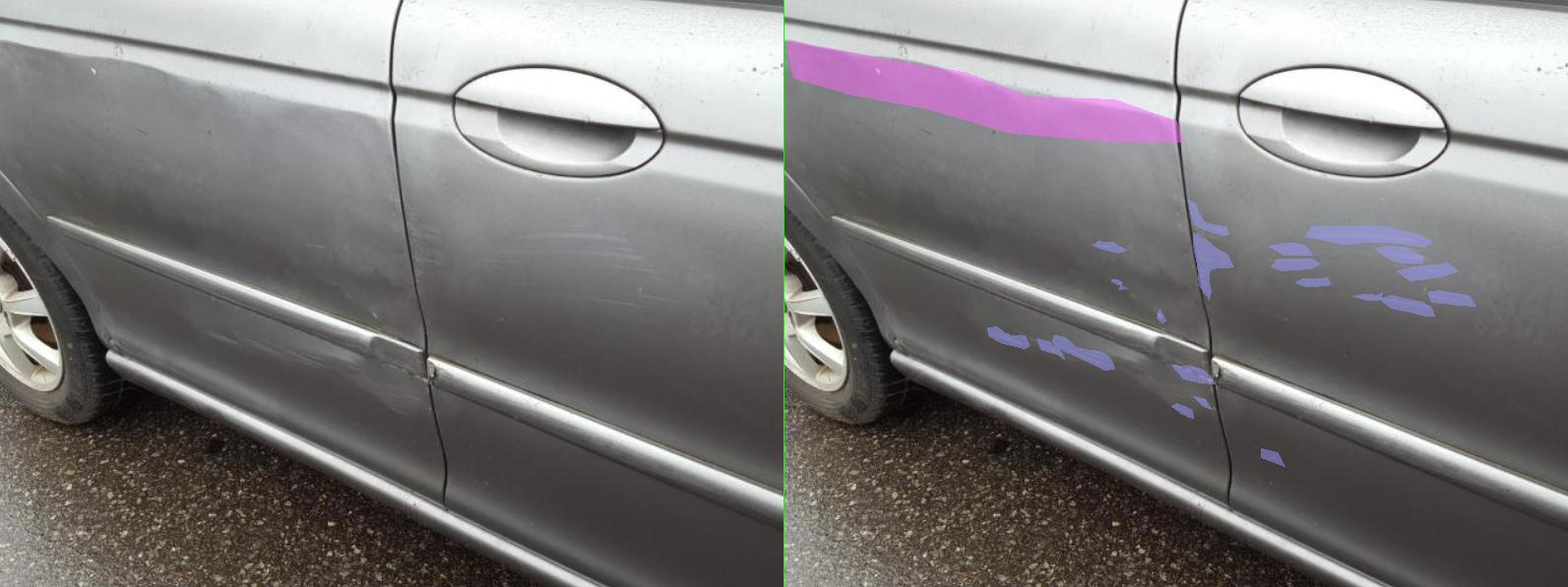Dent: (4, 41, 798, 142)
Scratch: (817, 233, 898, 299), (1042, 226, 1296, 247), (536, 335, 660, 370), (808, 200, 888, 235), (1190, 295, 1300, 316), (1225, 263, 1347, 280), (406, 326, 490, 348), (1182, 246, 1278, 263), (1286, 290, 1383, 306), (774, 365, 859, 383), (504, 338, 559, 359), (973, 259, 1072, 270), (969, 243, 1056, 255), (953, 448, 1001, 466), (619, 241, 684, 253), (774, 403, 817, 418), (1022, 277, 1093, 286), (817, 396, 855, 409), (1139, 292, 1196, 300), (654, 279, 686, 289), (745, 309, 762, 323)
